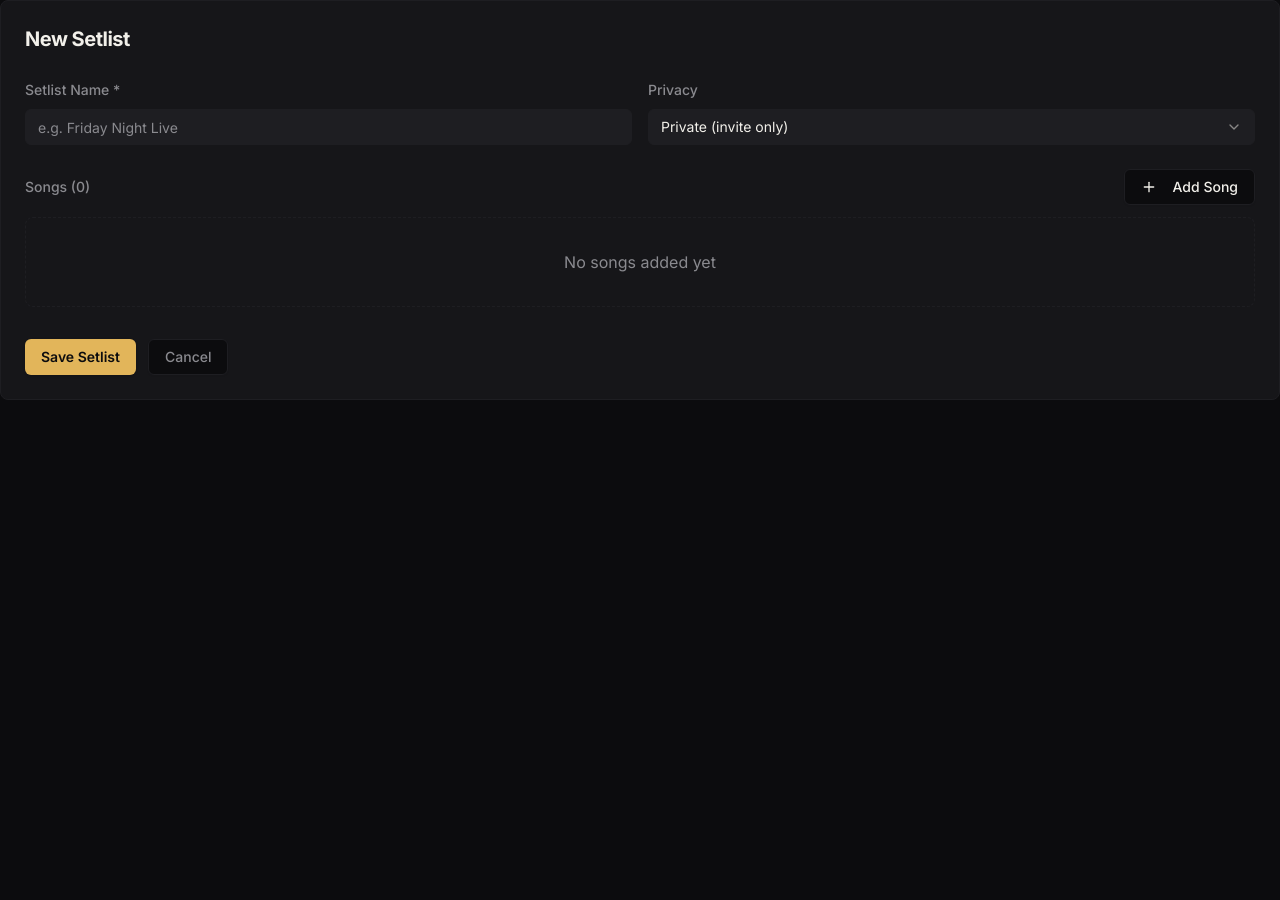
it: SetlistEditor › adds a song via SongPicker
Expected: the text "Songs (0)" is shown, [25,180,90,194]
Click the button "Add Song" at (1189, 187), box [1124,169,1255,205]
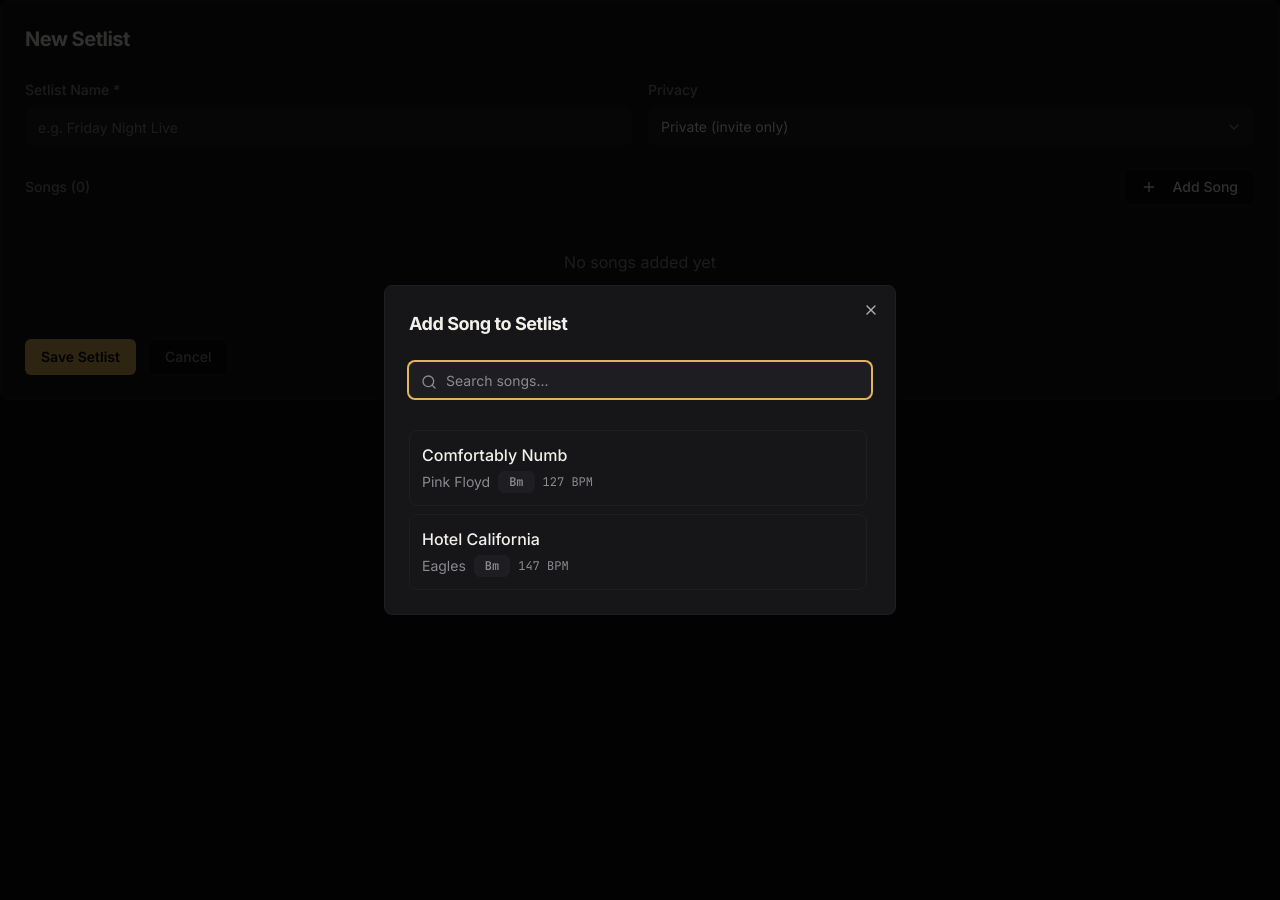
Click the text "Comfortably Numb" at (495, 455), box [422,445,567,465]
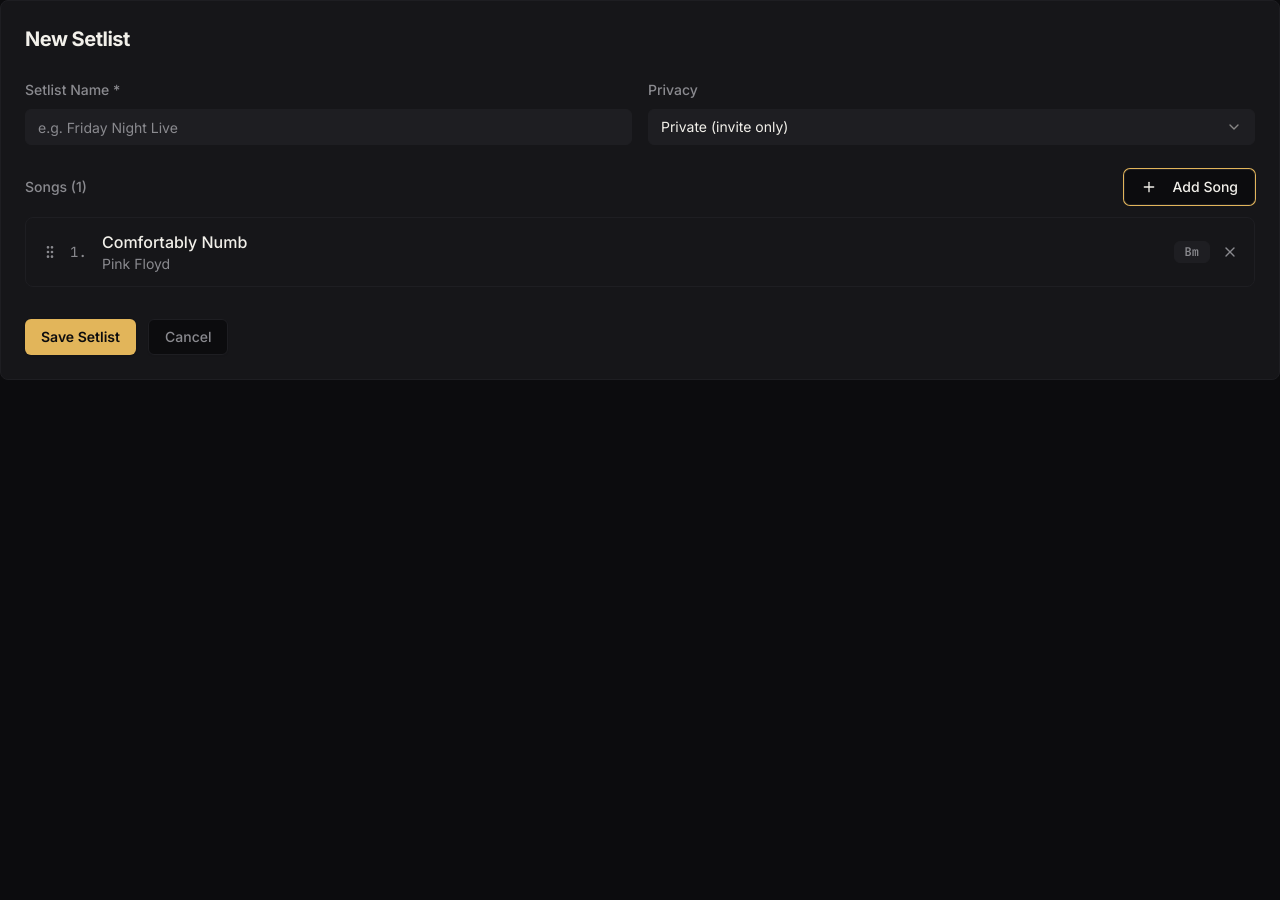
Expected: the text "Comfortably Numb" is shown, [102,232,247,252]
Expected: the text "Songs (1)" is shown, [25,180,87,194]
Expected: the text "1." is shown, [70,243,87,261]
